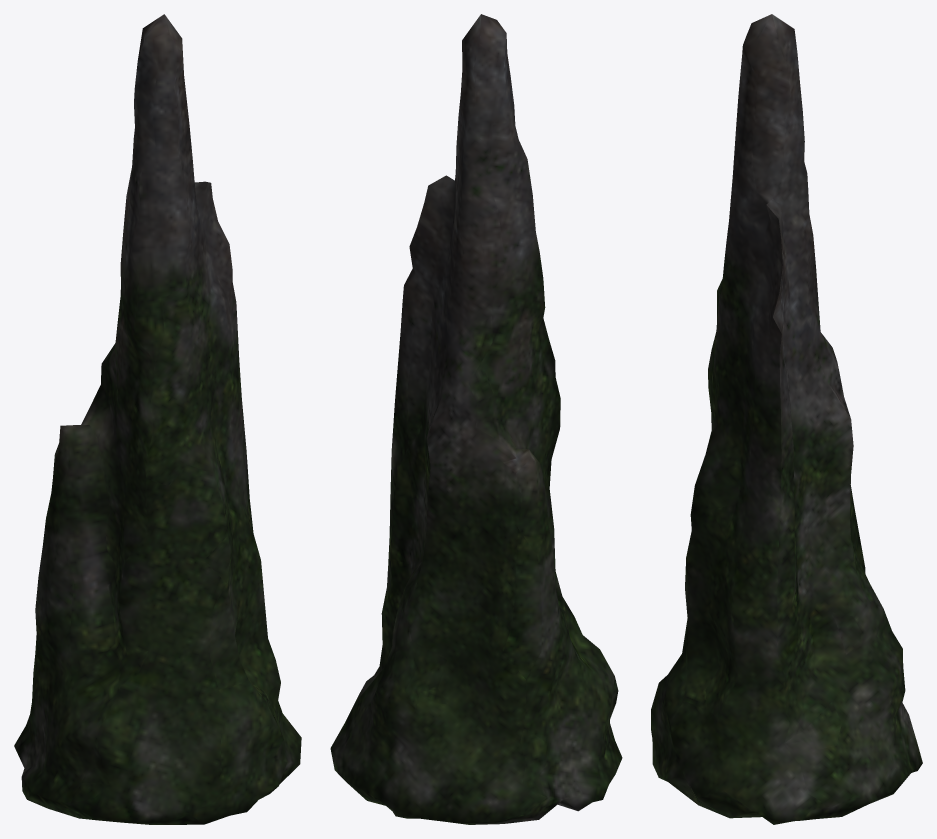
Rendered from MossRockBottomB.fbx.
3 views of the same model, side by side, from view 1: azimuth 30°, elevation 25°; view 2: azimuth 150°, elevation 25°; view 3: azimuth 270°, elevation 25° (orthographic).
Parts seen in each view (by area): view 1: CaveMossRockBottom1; view 2: CaveMossRockBottom1; view 3: CaveMossRockBottom1.
Part boxes in pixels (left/top/right/bottom): CaveMossRockBottom1: left=14, top=14, right=301, bottom=824; CaveMossRockBottom1: left=330, top=14, right=622, bottom=824; CaveMossRockBottom1: left=651, top=14, right=922, bottom=824.
Size of the model in its own units: 63.29 by 180 by 58.44.
Materials: 1 (1 with a texture image).
